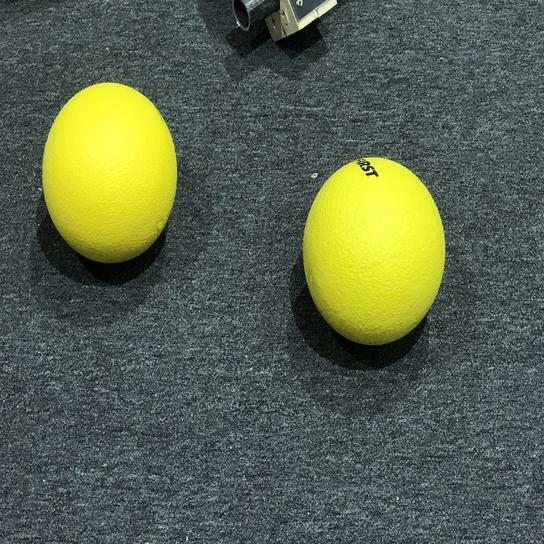ball: (301, 150, 449, 350), (37, 77, 182, 269)
